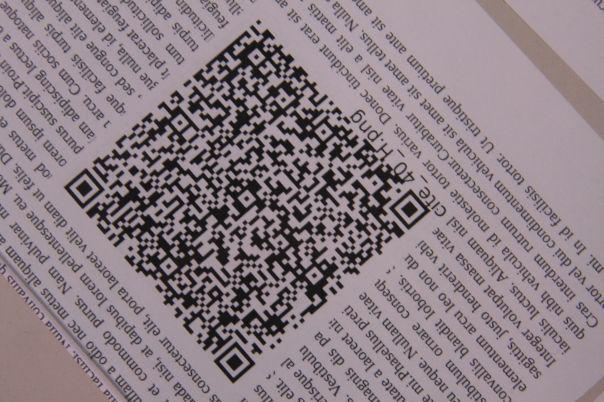Finder pattern: (388, 187, 434, 230), (214, 339, 257, 382), (63, 168, 107, 209)
